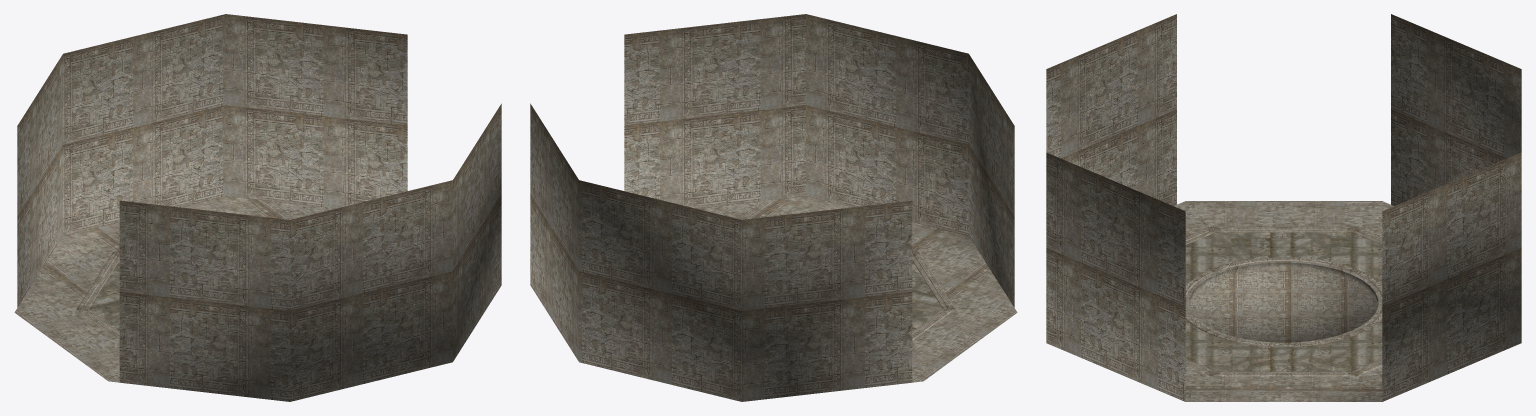
3 renders of one model, left to right at view 1: azimuth 30°, elevation 25°; view 2: azimuth 150°, elevation 25°; view 3: azimuth 270°, elevation 25°, orthographic. The views are drawn at different scales.
Parts seen in each view (by area): view 1: LV_AncientTower_Dungeon_AstroFloor_SM_KBE; view 2: LV_AncientTower_Dungeon_AstroFloor_SM_KBE; view 3: LV_AncientTower_Dungeon_AstroFloor_SM_KBE.
Boxes of the visible parts, x1,y1,x2,y2 form: LV_AncientTower_Dungeon_AstroFloor_SM_KBE: (14,14,501,401); LV_AncientTower_Dungeon_AstroFloor_SM_KBE: (530,14,1017,401); LV_AncientTower_Dungeon_AstroFloor_SM_KBE: (1046,14,1521,401).
Size of the model in its own units: 9.14 by 4.19 by 9.14.
